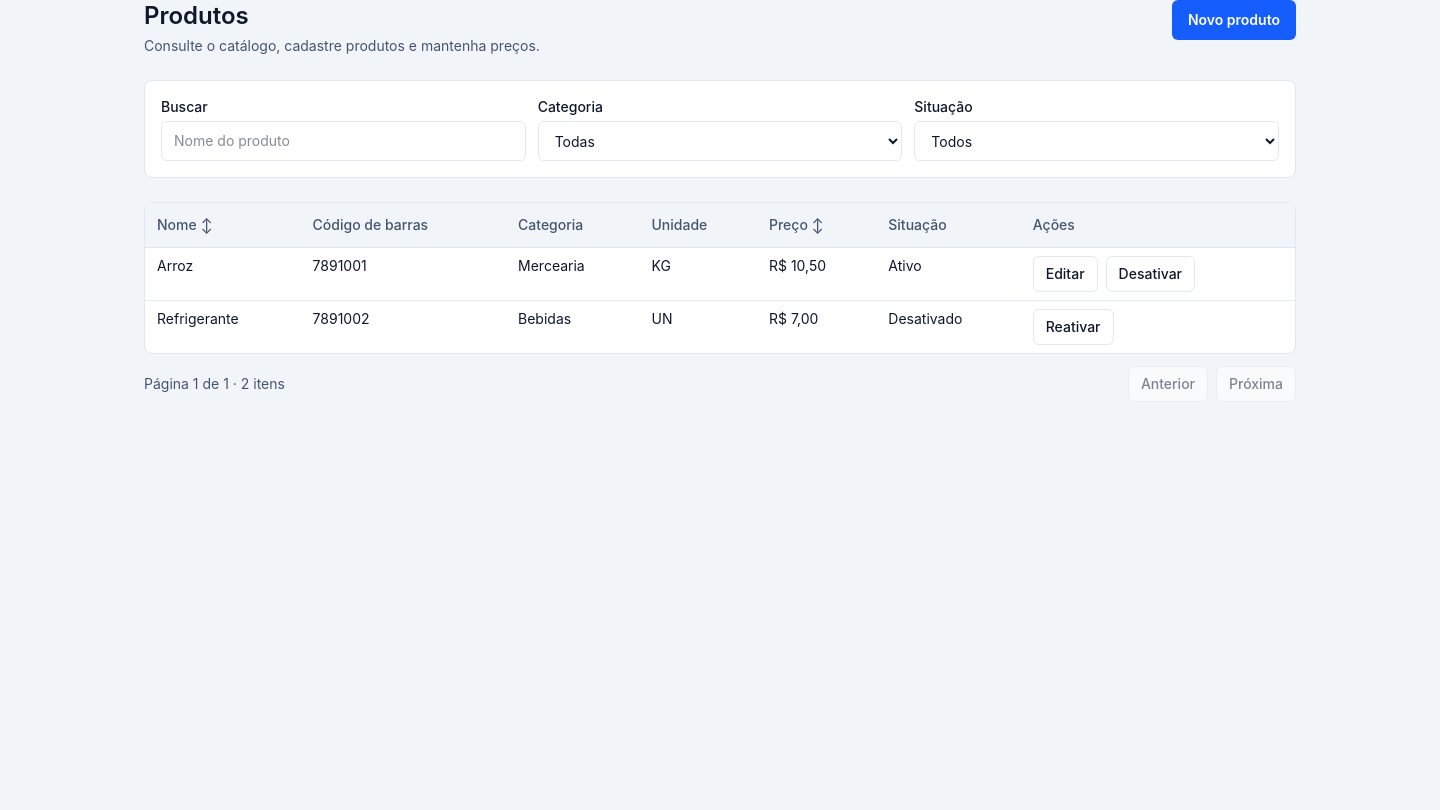
ProductsPage — cadastro › envia o corpo do contrato com o preço cru e fecha o modal
expect the cell "Arroz" is shown: met, box [145,248,301,300]
Click the button "Novo produto": (1234, 20) [1172,0,1296,40]
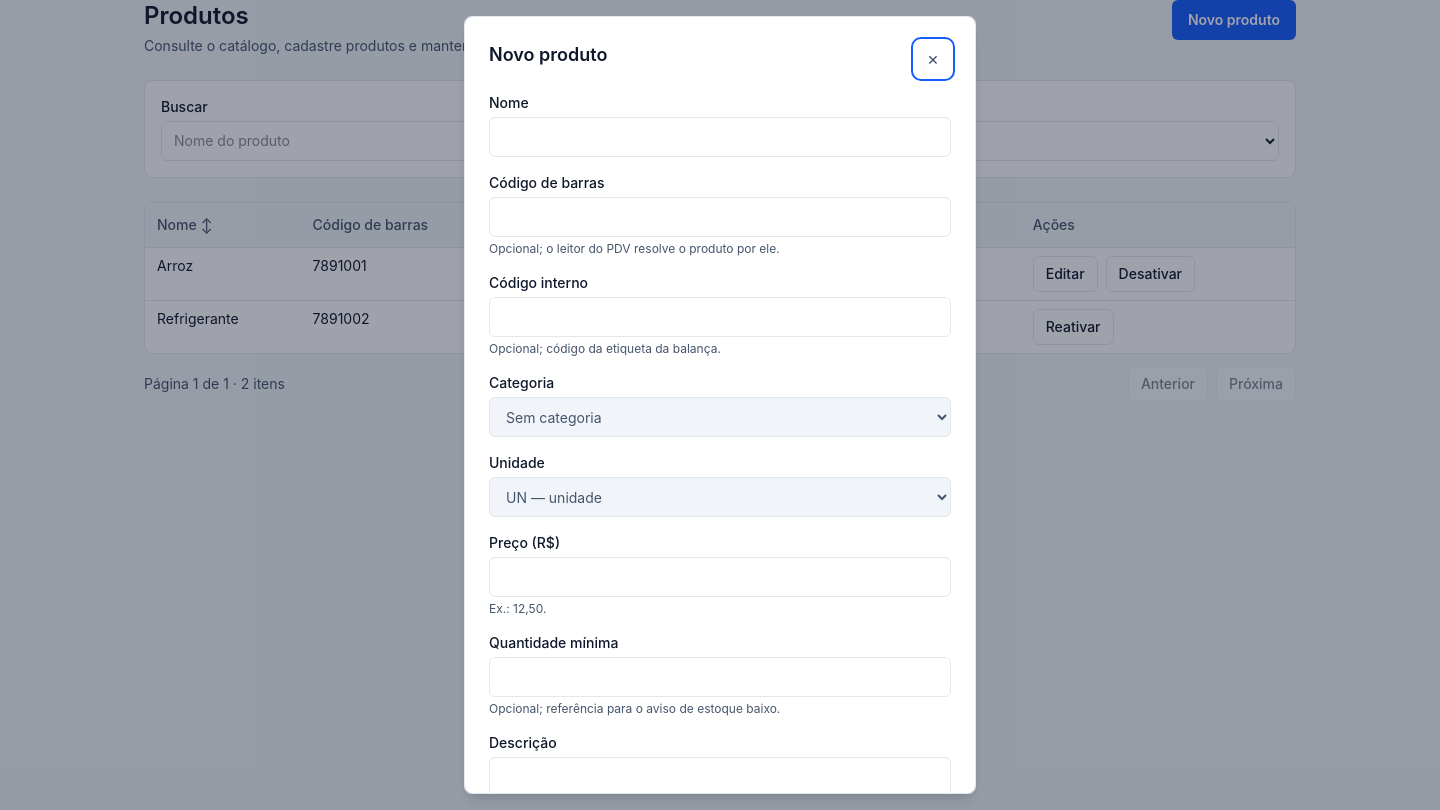
In the field labelled "Nome": (720, 137) [489,117,951,157], type "Café"
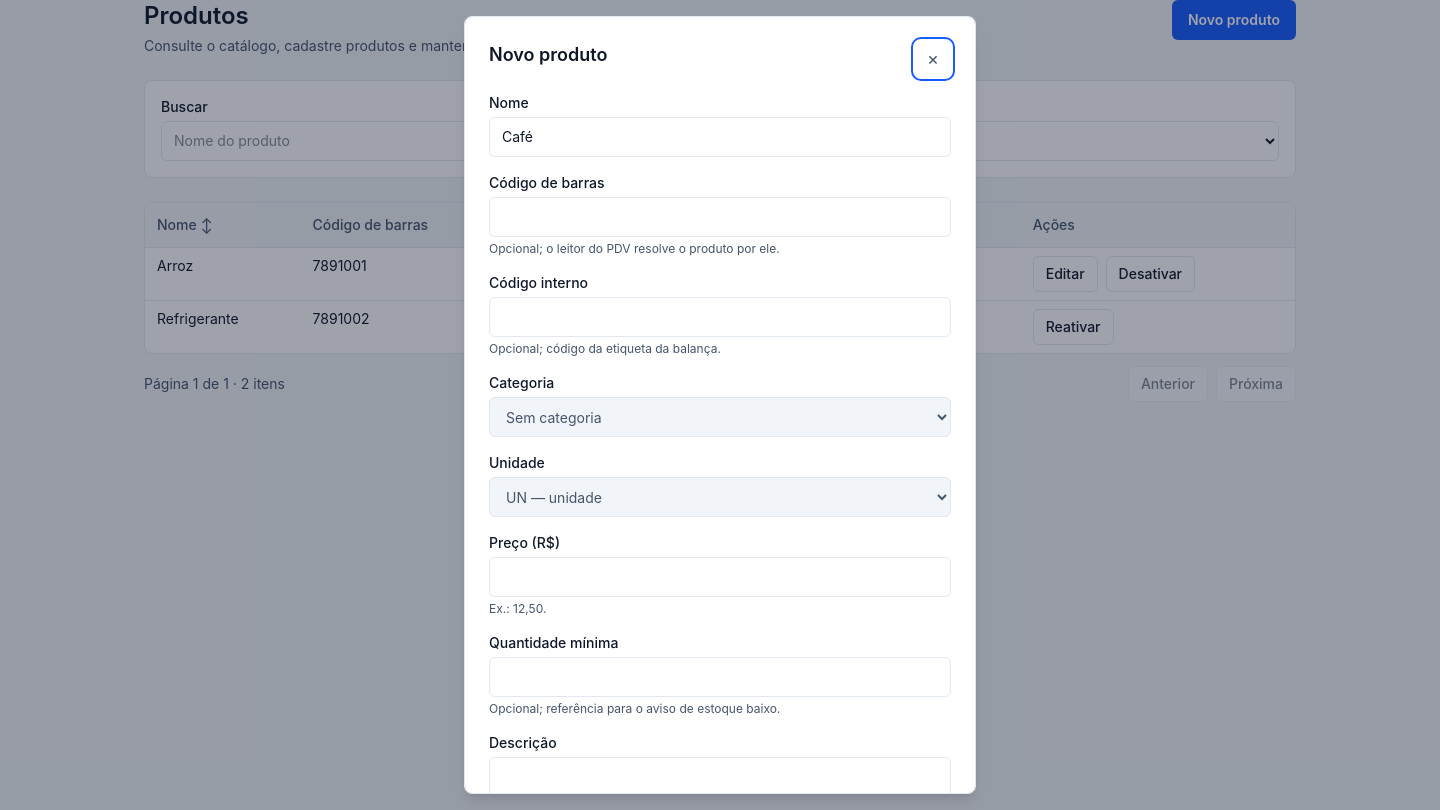
In the field labelled "Código de barras": (720, 217) [489,197,951,237], type "7891003"
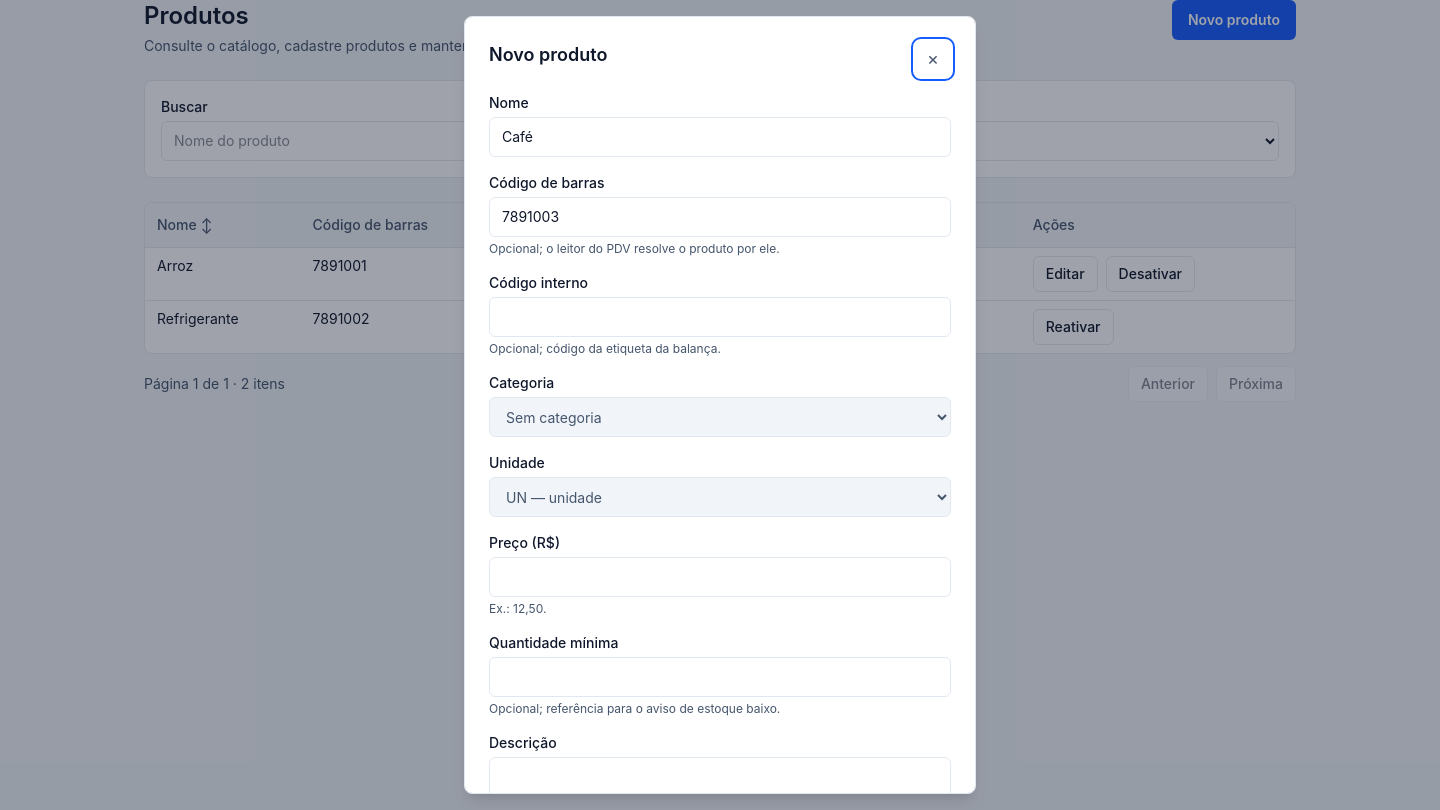
Select "UN — unidade" in the dropdown labelled "Unidade": (720, 497) [489,477,951,517]
In the field labelled "Preço (R$)": (720, 577) [489,557,951,597], type "12,50"
(page scrolled)
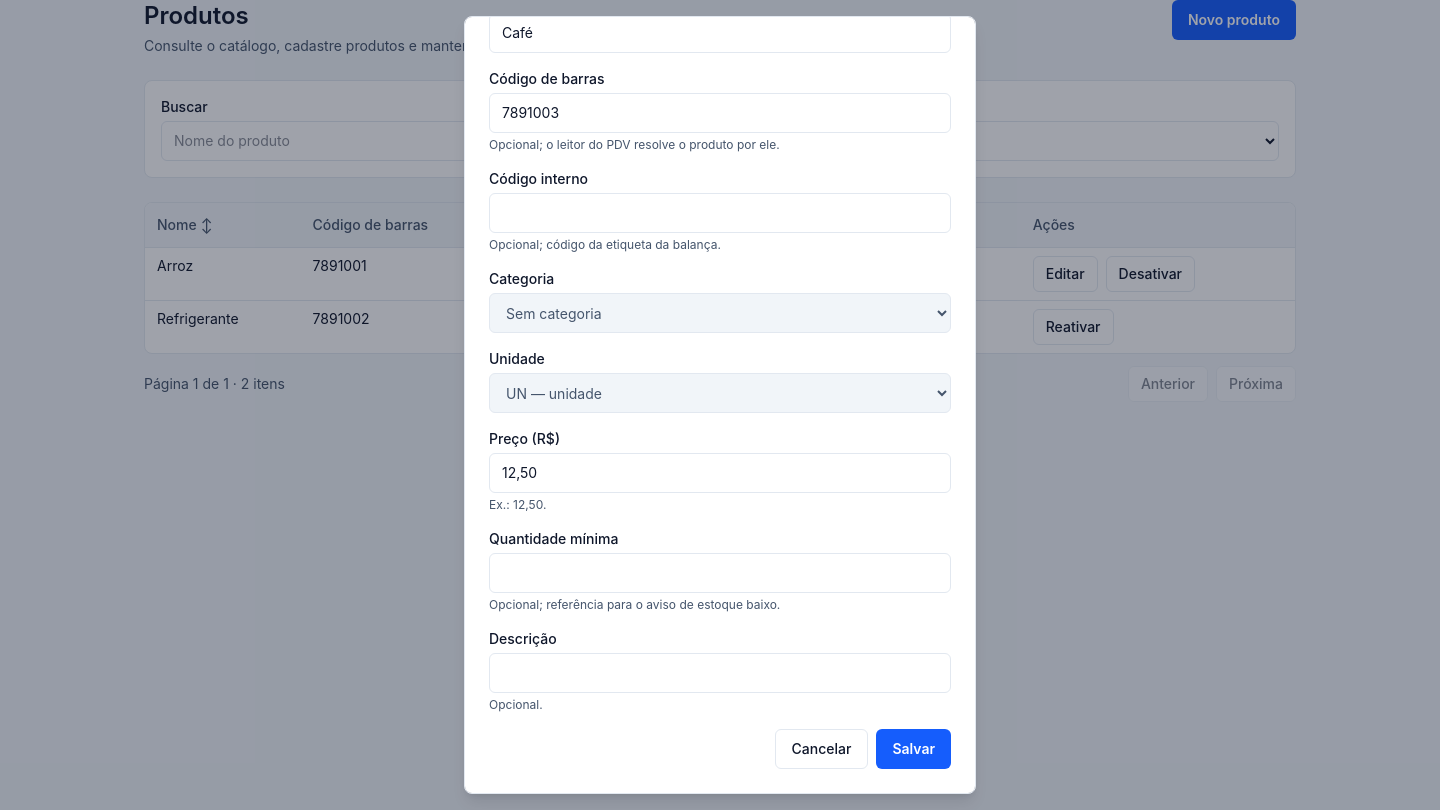
Click the button "Salvar": (914, 749) [876,729,951,769]
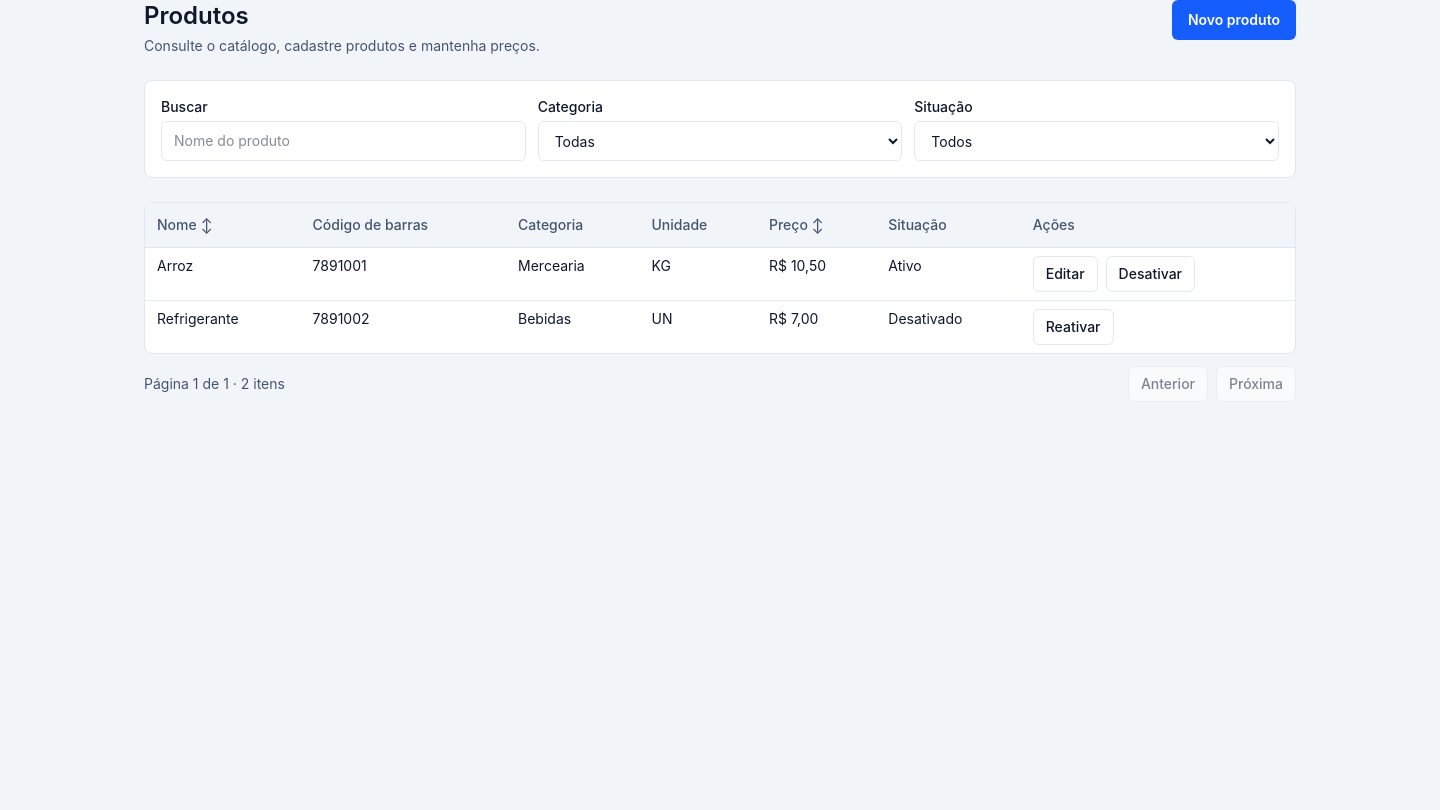
expect the dialog is gone: met
